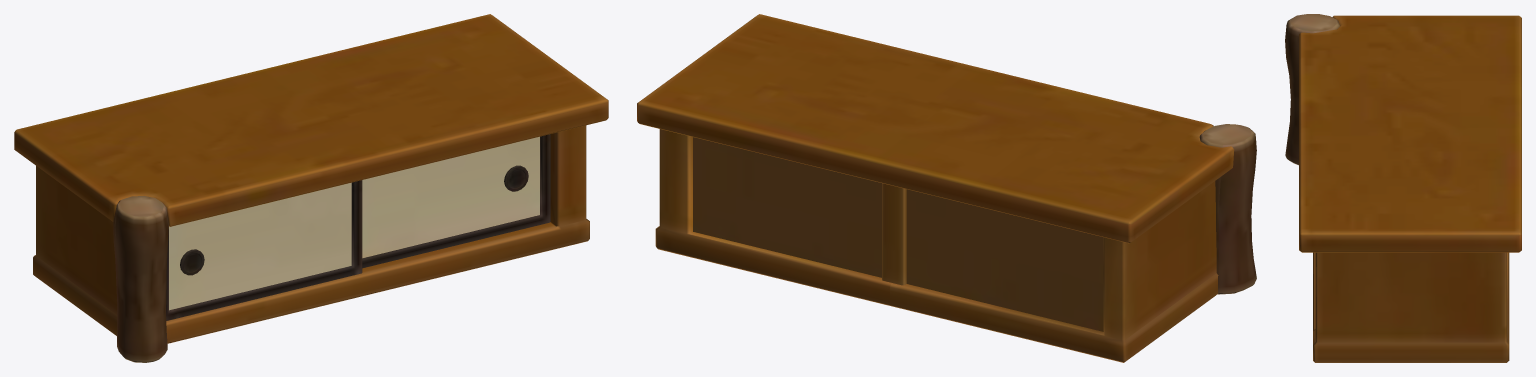
3 views of the same model, side by side, from view 1: azimuth 30°, elevation 25°; view 2: azimuth 150°, elevation 25°; view 3: azimuth 270°, elevation 25° (orthographic). The views are drawn at different scales.
Bounding box in the file's own units: 17.47 × 5 × 7.9.
Materials: 1 (1 with a texture image).
